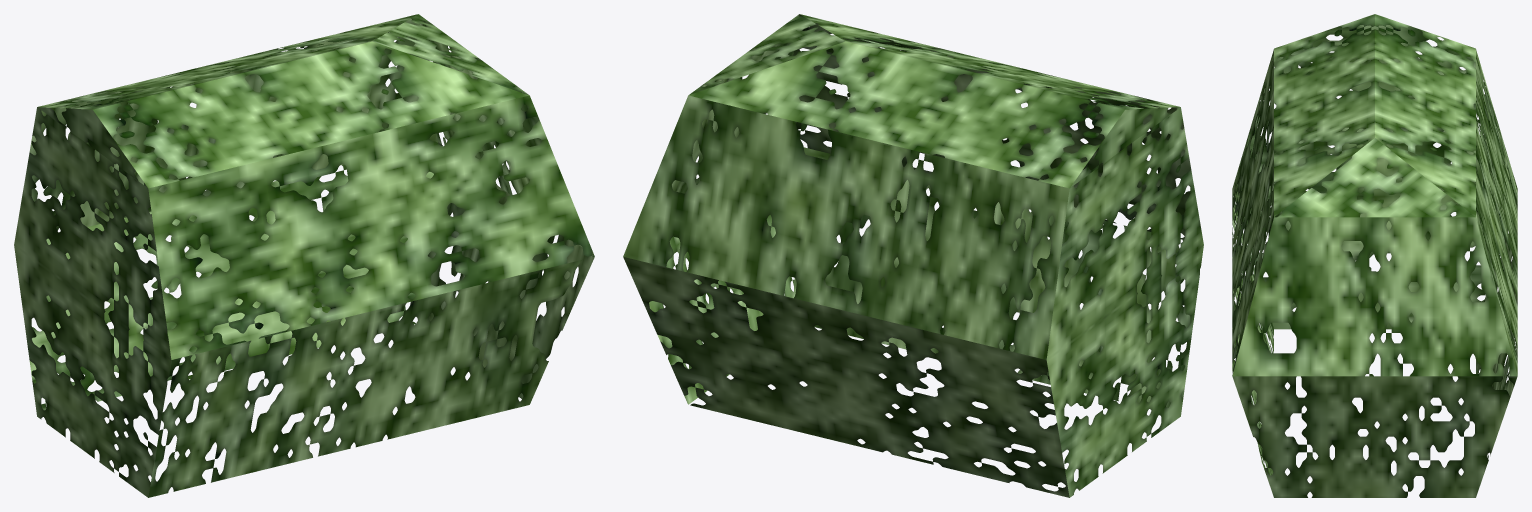
File: bush_long_half_open_right_summer.fbx
3 views of the same model, side by side, from view 1: azimuth 30°, elevation 25°; view 2: azimuth 150°, elevation 25°; view 3: azimuth 270°, elevation 25° (orthographic). The views are drawn at different scales.
Parts seen in each view (by area): view 1: bush_long_half_open_right_summer; view 2: bush_long_half_open_right_summer; view 3: bush_long_half_open_right_summer.
Boxes of the visible parts, x1,y1,x2,y2 form: bush_long_half_open_right_summer: (14,14,594,497); bush_long_half_open_right_summer: (623,14,1203,497); bush_long_half_open_right_summer: (1232,14,1517,497).
Size of the model in its own units: 112 by 87.65 by 71.91.
1 material, 1 textured.
